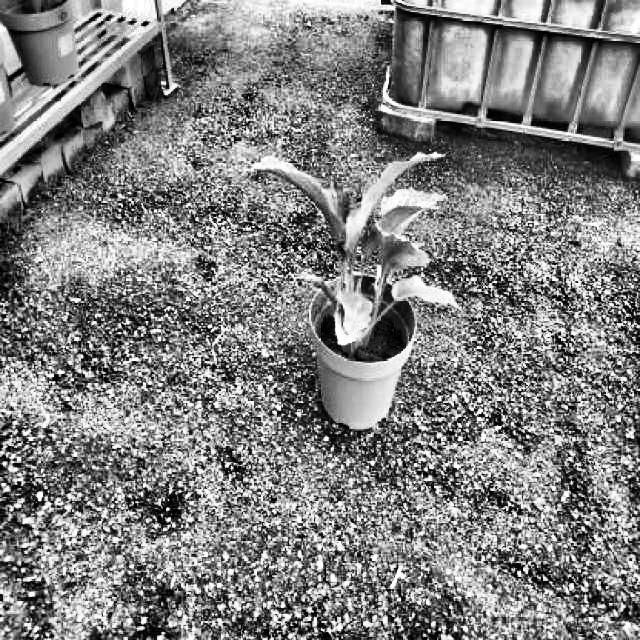plants: (250, 150, 462, 356)
